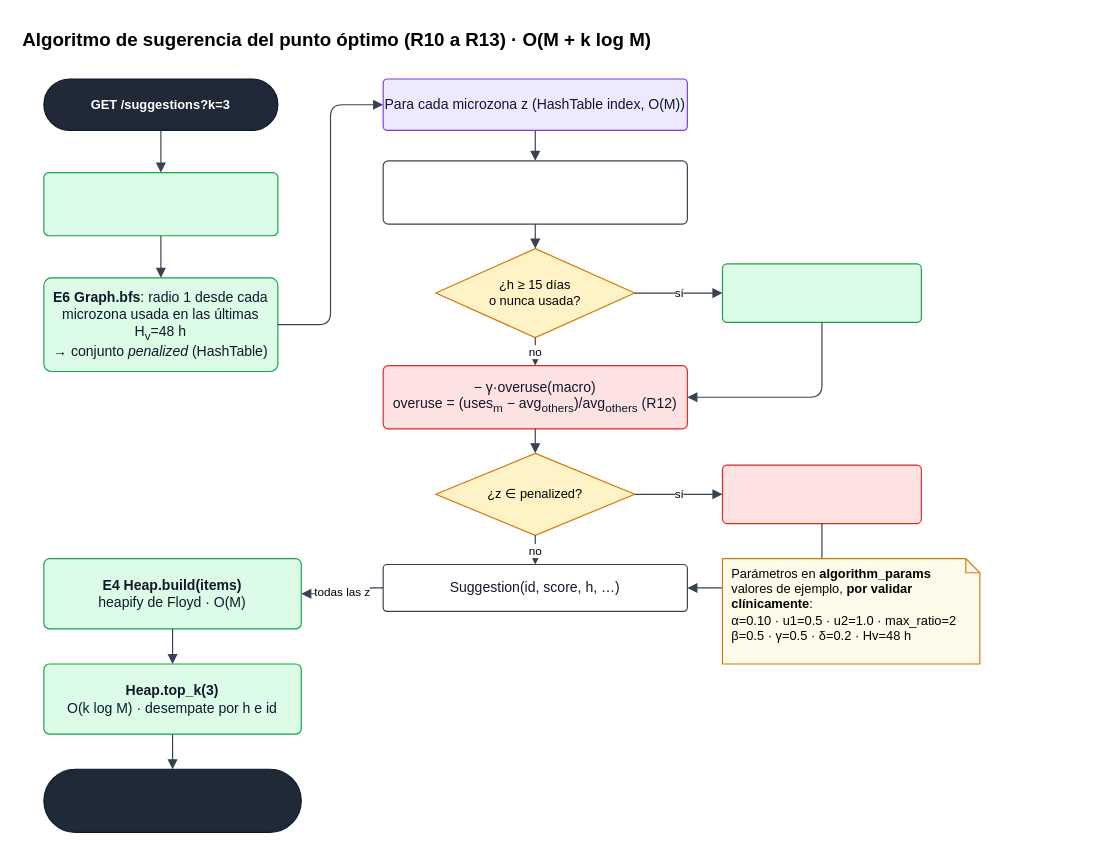
This 1093x853 diagram has some shape labels left out. Here are the shapes that lost their labels. From the top down, the centre of each, then its label:
point 160,203: Obtener PatientState (LRUCache, O(1))
point 534,192: ratio = min(h / T req , max_ratio) T req = base_hours[macro]·(1+α·uses 30d )
point 821,292: +β forgotten_bonus (R13)
point 821,494: − δ neighbor_penalty
point 172,800: 200 · 3 microzonas + breakdown (principal + 2 alternativas)
